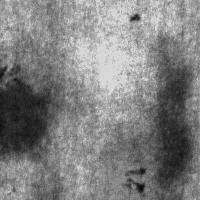patches: (91, 123, 185, 200), (1, 65, 50, 164), (158, 65, 192, 168)
